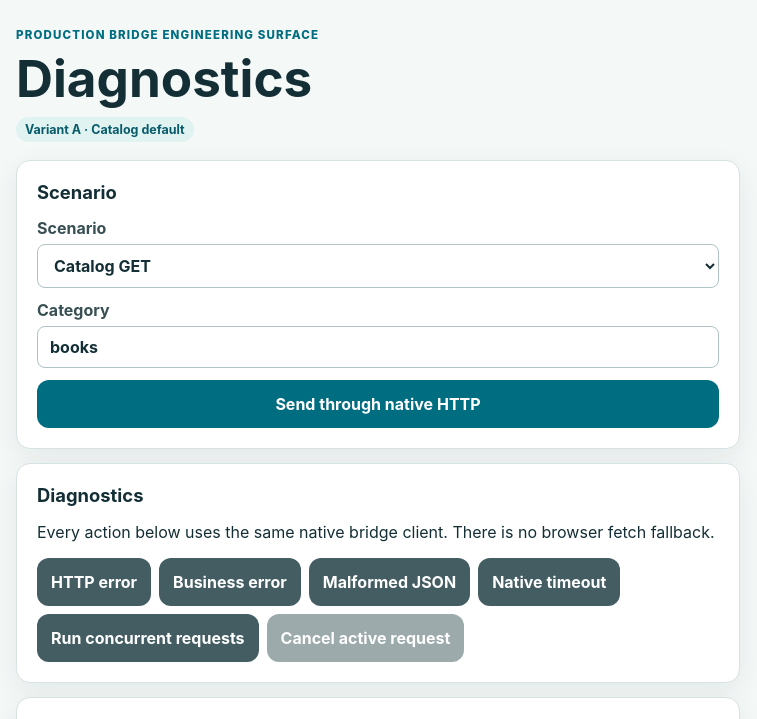
it: opt-in TechnicalPanel with explicitly mocked native boundary › retains the HTTP error diagnostic category
Click the button "HTTP error": (94, 582) [37,558,151,606]
(page scrolled)
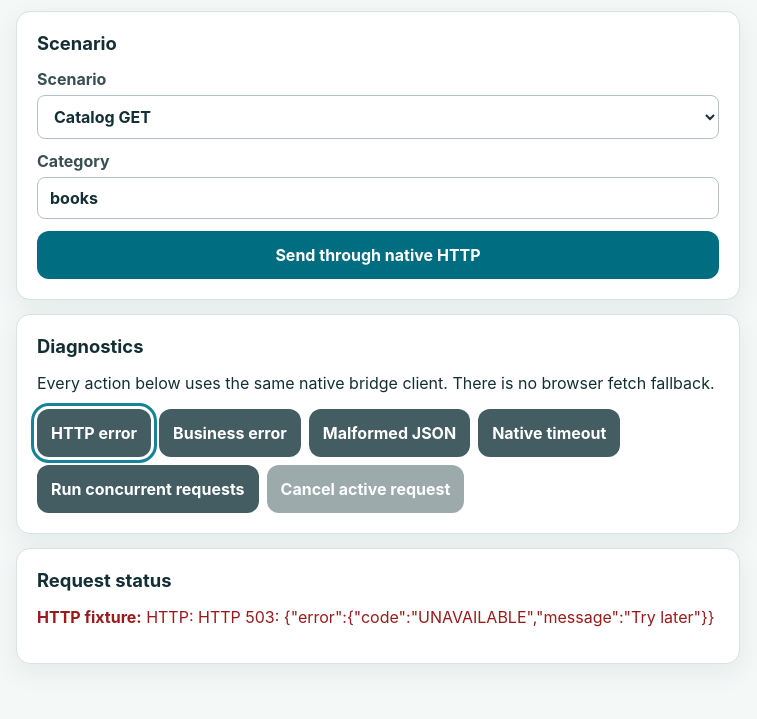
Check: the message with test id "lab.error" shows "HTTP", box [37,607,136,627]
